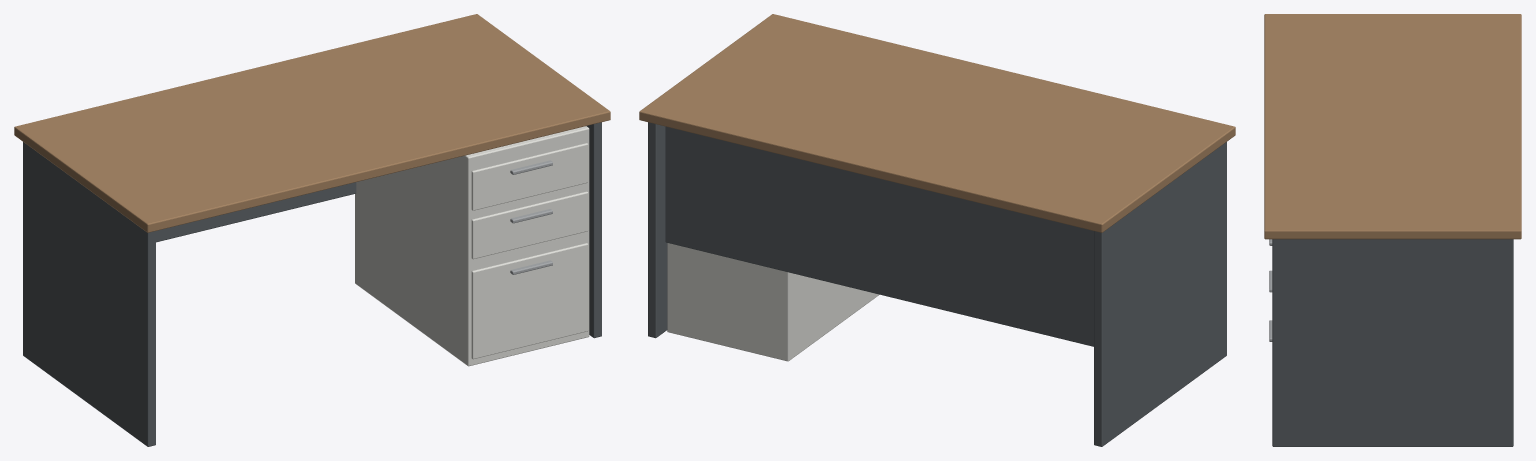
The model's file is PROP_Desk_Clinical.glb.
3 renders of one model, left to right at view 1: azimuth 30°, elevation 25°; view 2: azimuth 150°, elevation 25°; view 3: azimuth 270°, elevation 25°, orthographic. The views are drawn at different scales.
Parts seen in each view (by area): view 1: PROP_Desk_Clinical_Mesh; view 2: PROP_Desk_Clinical_Mesh; view 3: PROP_Desk_Clinical_Mesh.
Boxes of the visible parts, <box> form: PROP_Desk_Clinical_Mesh: <box>14,14,610,446</box>; PROP_Desk_Clinical_Mesh: <box>639,14,1235,446</box>; PROP_Desk_Clinical_Mesh: <box>1264,14,1521,446</box>.
Size of what is drawn, in the model's own units: 1.6 by 0.75 by 0.8.
